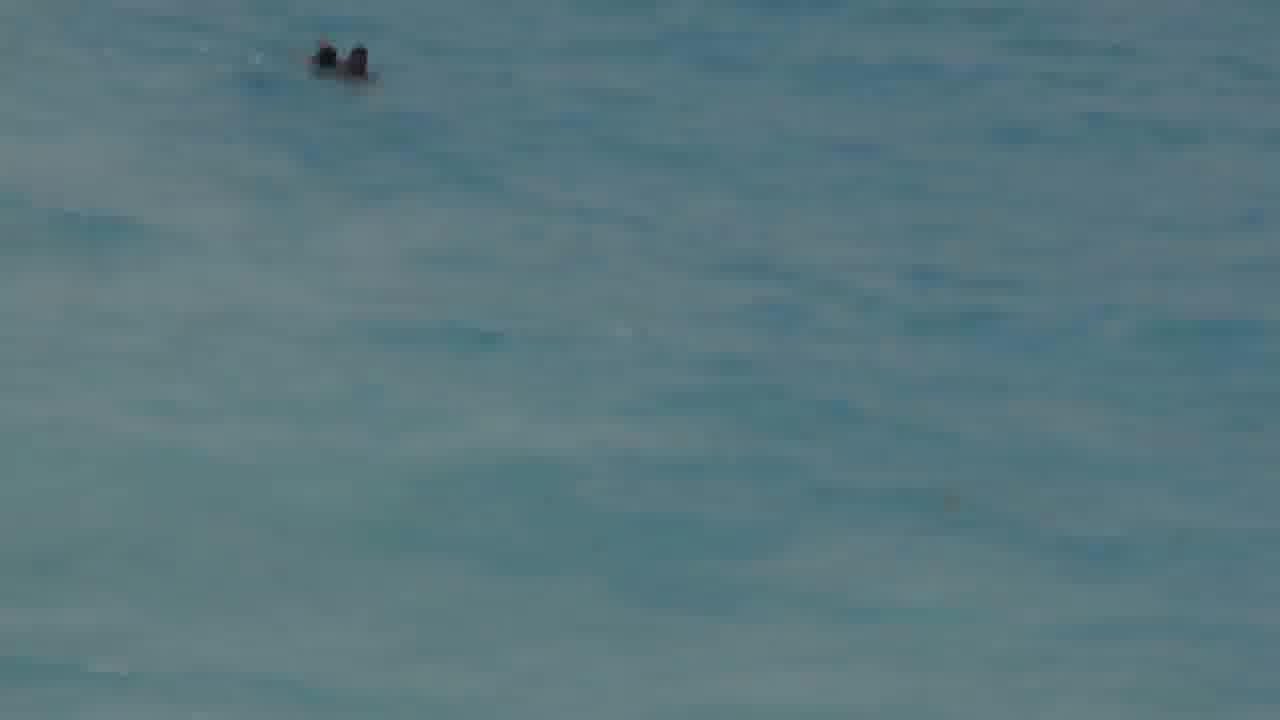human: (344, 34, 378, 83), (303, 37, 340, 71)
